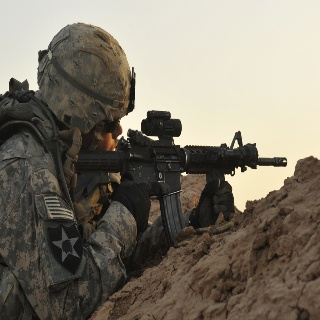rifle: (72, 109, 288, 250)
